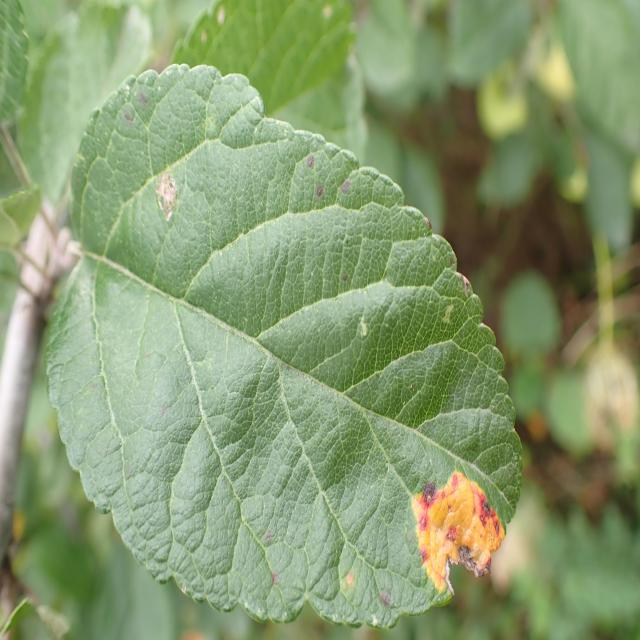rust: (43, 62, 524, 631)
